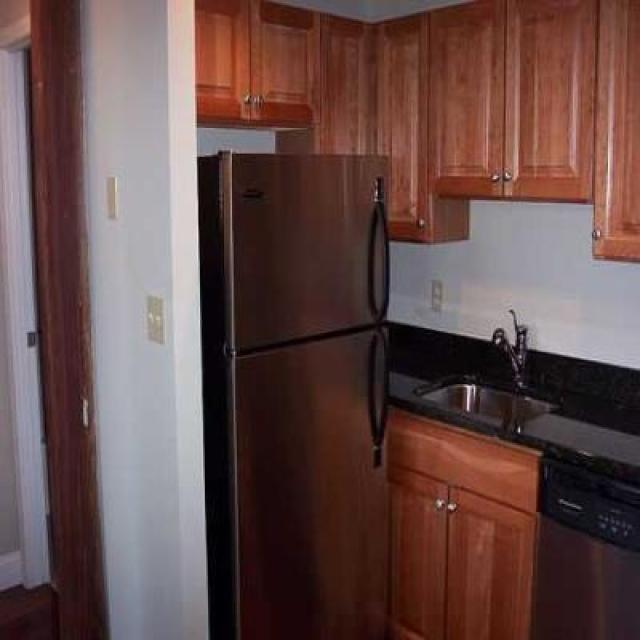refrigerator: (207, 133, 396, 629)
